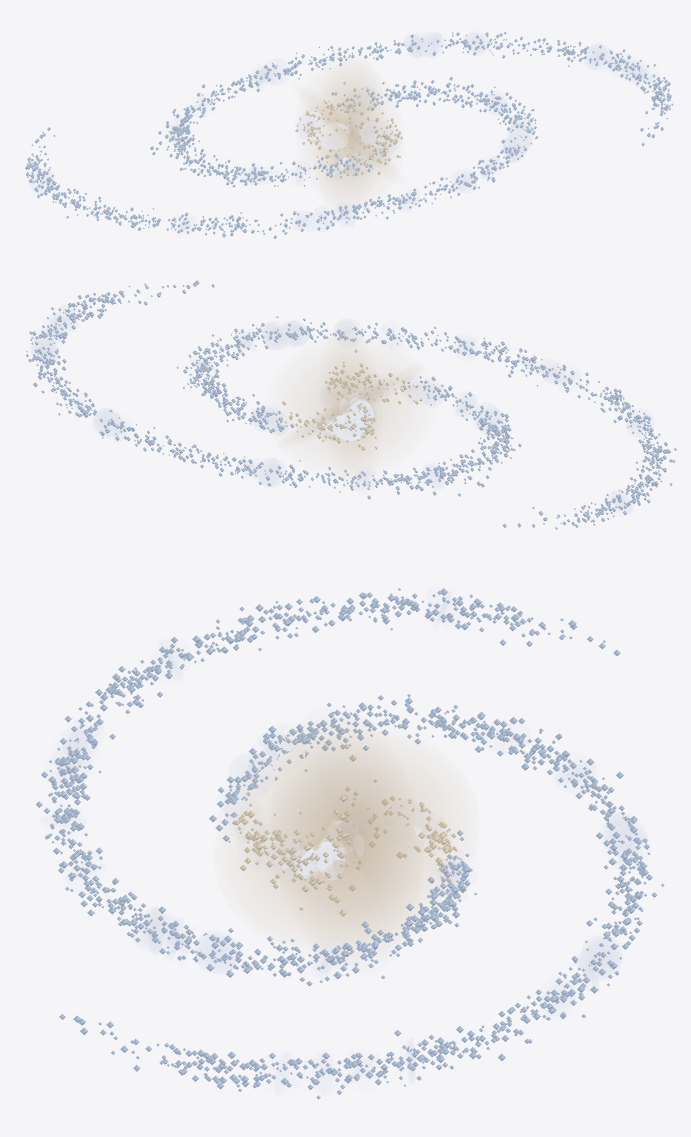
3 renders of one model, top to bottom at view 1: azimuth 30°, elevation 25°; view 2: azimuth 150°, elevation 25°; view 3: azimuth 270°, elevation 25°, orthographic. The views are drawn at different scales.
Size of the model in its own units: 7.26 by 1.78 by 4.01.
